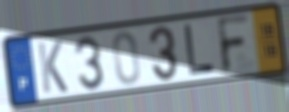0: (111, 30, 142, 87)
3: (72, 33, 107, 92), (148, 24, 179, 83)
F: (215, 12, 253, 77)
K: (35, 39, 70, 96)
L: (182, 22, 217, 78)
